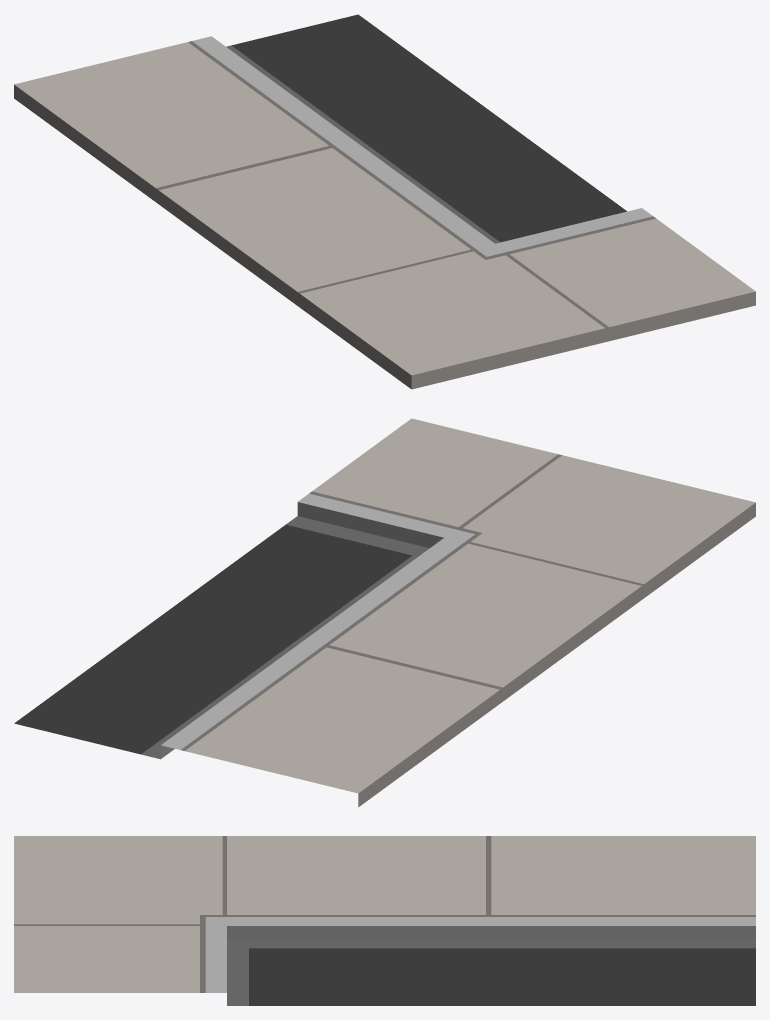
The model's file is SA_Env_Road_Bend_Right_01.fbx.
3 renders of one model, top to bottom at view 1: azimuth 30°, elevation 25°; view 2: azimuth 150°, elevation 25°; view 3: azimuth 270°, elevation 25°, orthographic. The views are drawn at different scales.
Parts seen in each view (by area): view 1: SA_Env_Road_Bend_Right_01; view 2: SA_Env_Road_Bend_Right_01; view 3: SA_Env_Road_Bend_Right_01.
Part boxes in pixels (bbox=[...]): SA_Env_Road_Bend_Right_01: bbox=[14, 14, 755, 389]; SA_Env_Road_Bend_Right_01: bbox=[14, 418, 755, 807]; SA_Env_Road_Bend_Right_01: bbox=[14, 836, 755, 1005].
Bounding box in the file's own units: 5 × 0.1948 × 10.
1 material, 1 textured.
